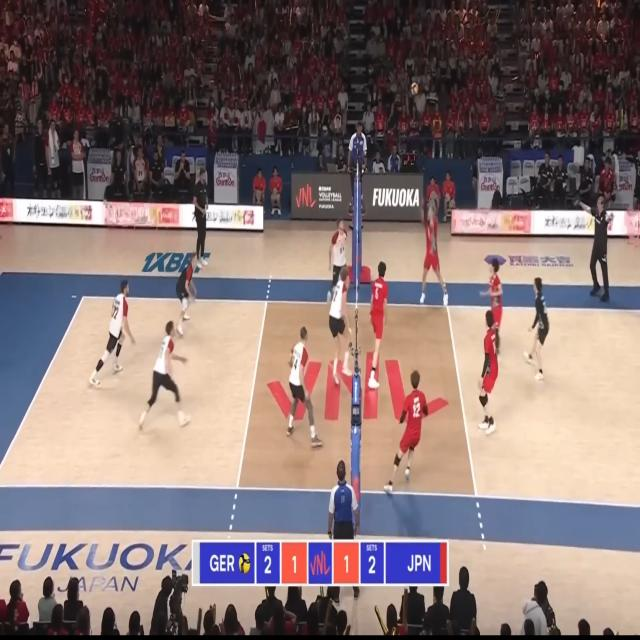ball: (411, 82, 418, 96)
